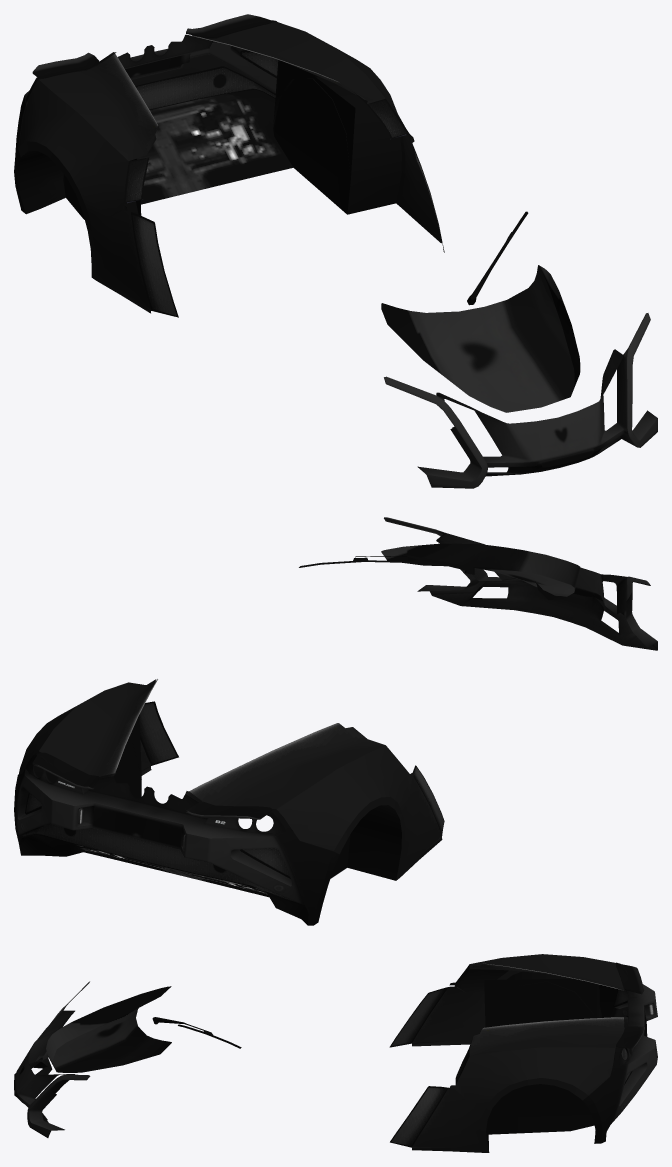
Rendered from Marussia_B2.FBX.
3 renders of one model, top to bottom at view 1: azimuth 30°, elevation 25°; view 2: azimuth 150°, elevation 25°; view 3: azimuth 270°, elevation 25°, orthographic. The views are drawn at different scales.
Parts seen in each view (by area): view 1: Object001, Object002, Object003, Object004; view 2: Object001, Object002, Object004, Object003; view 3: Object001, Object002, Object003, Object004.
Boxes of the visible parts, x1,y1,x2,y2 form: Object001: (18, 21, 444, 317); Object002: (14, 14, 401, 219); Object003: (381, 211, 580, 412); Object004: (384, 313, 657, 488); Object001: (19, 679, 444, 925); Object002: (14, 715, 401, 925); Object004: (384, 517, 657, 650); Object003: (299, 543, 580, 599); Object001: (389, 954, 632, 1152); Object002: (484, 962, 657, 1152); Object003: (46, 986, 241, 1072); Object004: (14, 981, 90, 1137).
Size of what is drawn, in the model's own units: 1.98 by 4.64 by 0.8179.
2 materials, 2 textured.
